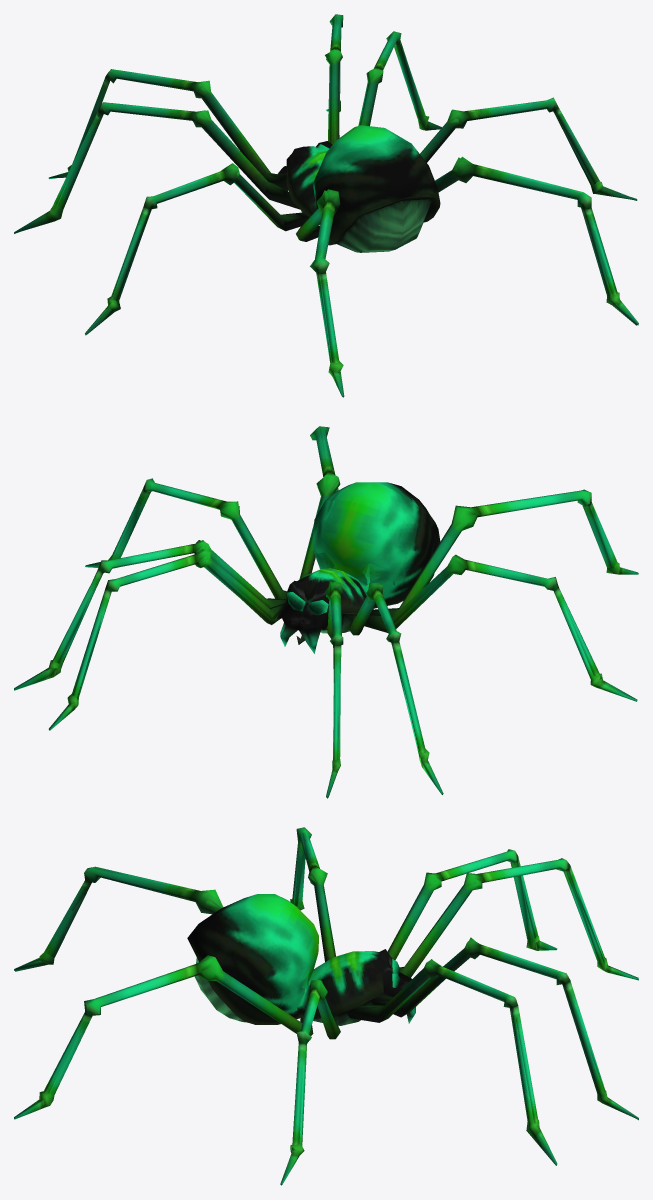
The model's file is CHAR_SPID_POISON_GREEN.fbx.
3 views of the same model, one above another, from view 1: azimuth 30°, elevation 25°; view 2: azimuth 150°, elevation 25°; view 3: azimuth 270°, elevation 25° (orthographic). The views are drawn at different scales.
Visible parts, largest first — view 1: CHAR_SPID_POISON_GREEN; view 2: CHAR_SPID_POISON_GREEN; view 3: CHAR_SPID_POISON_GREEN.
Boxes of the visible parts, left/top/right/bottom form: CHAR_SPID_POISON_GREEN: left=14, top=14, right=638, bottom=397; CHAR_SPID_POISON_GREEN: left=14, top=426, right=638, bottom=798; CHAR_SPID_POISON_GREEN: left=14, top=827, right=638, bottom=1185.
Size of the model in its own units: 19907 by 5359 by 18900.
Materials: 1 (1 with a texture image).
